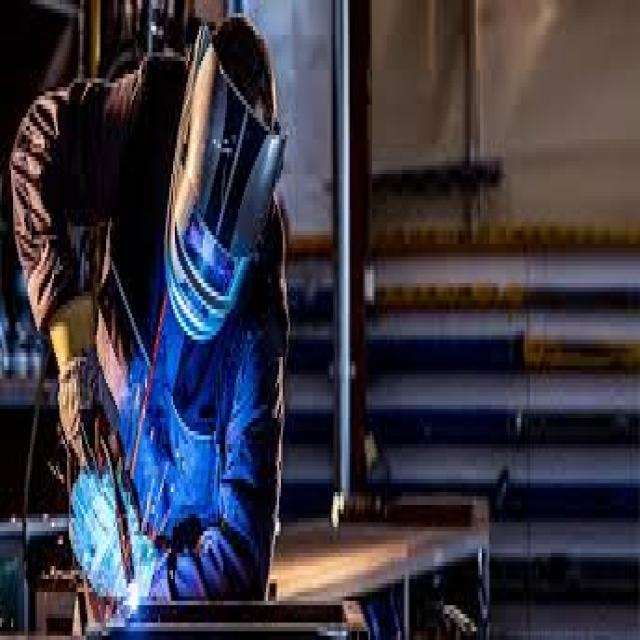welding: (126, 584, 141, 615)
